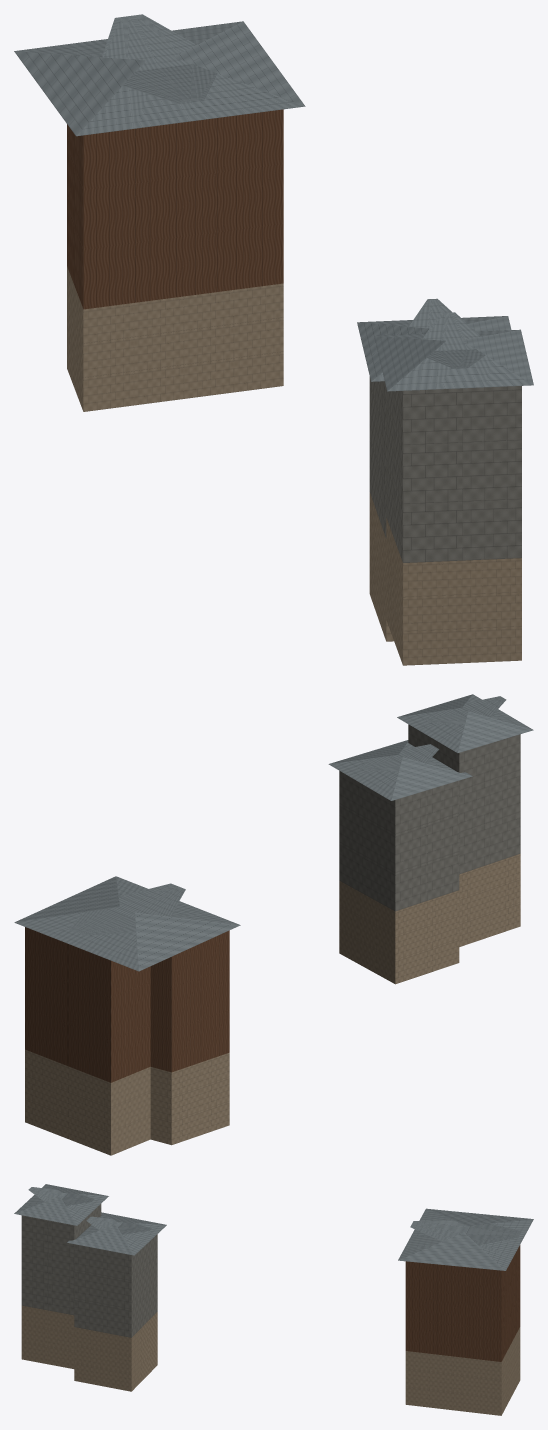
The model's file is bld_c9_25_412.gltf.
3 views of the same model, one above another, from view 1: azimuth 30°, elevation 25°; view 2: azimuth 150°, elevation 25°; view 3: azimuth 270°, elevation 25° (orthographic). The views are drawn at different scales.
Visible parts, largest first — view 1: bld_c9_25_412; view 2: bld_c9_25_412; view 3: bld_c9_25_412.
Part boxes in pixels (left/top/right/bottom): bld_c9_25_412: left=14, top=14, right=533, bottom=665; bld_c9_25_412: left=14, top=694, right=533, bottom=1155; bld_c9_25_412: left=14, top=1184, right=533, bottom=1415.
Bounding box in the file's own units: 15.31 × 16.1 × 44.63.
4 materials, 4 textured.
